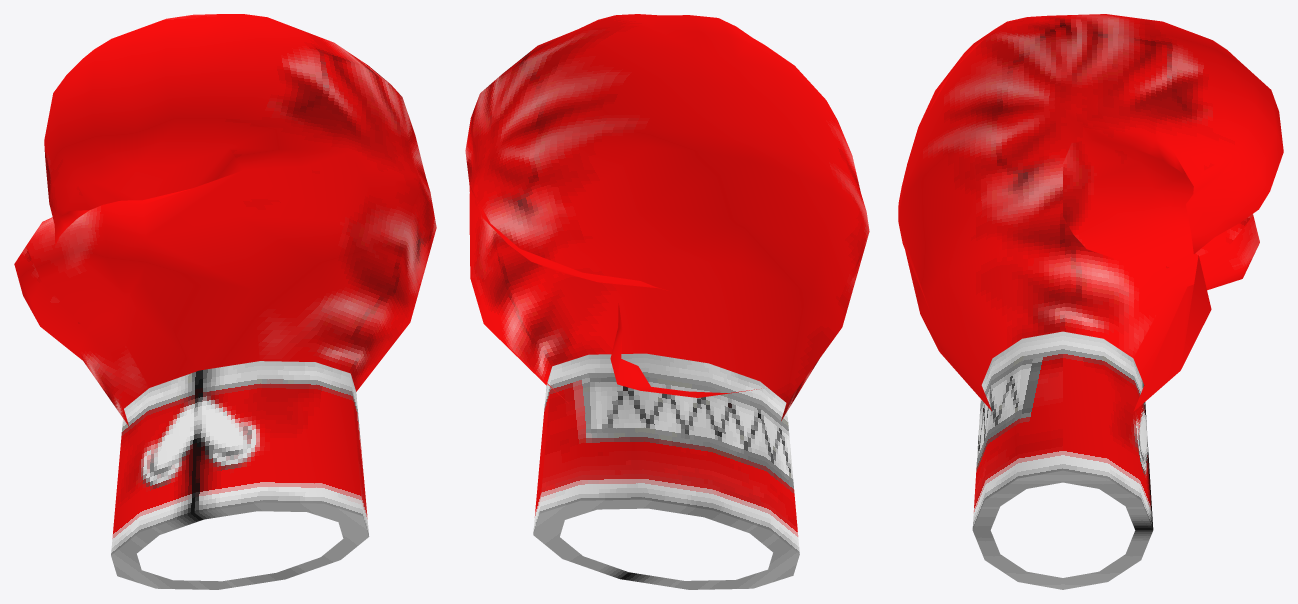
File: ps2_save-icons_ashitanotyping.glb
The picture shows the model from 3 angles, left to right: view 1: azimuth 30°, elevation 25°; view 2: azimuth 150°, elevation 25°; view 3: azimuth 270°, elevation 25°; orthographic projection. The views are drawn at different scales.
Visible parts, largest first — view 1: icon.ico; view 2: icon.ico; view 3: icon.ico.
Boxes of the visible parts, <box> form: icon.ico: <box>14,14,436,589</box>; icon.ico: <box>465,14,869,589</box>; icon.ico: <box>898,14,1283,589</box>.
Size of the model in its own units: 3.45 by 4.65 by 3.28.
Materials: 1 (1 with a texture image).
